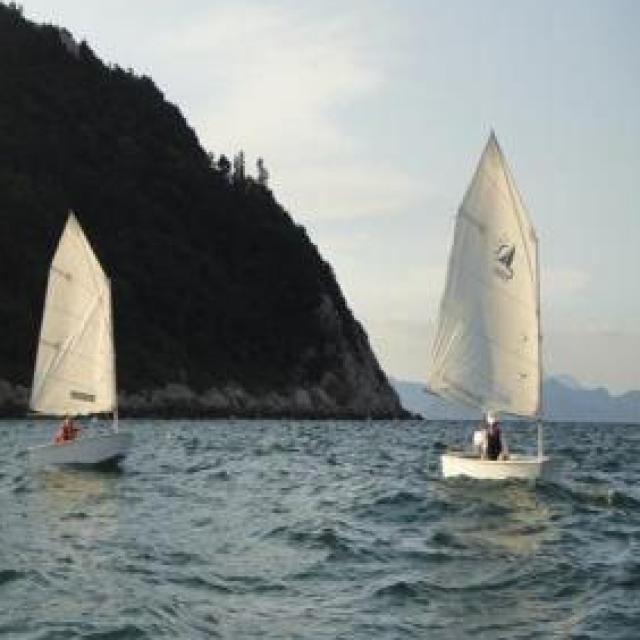sailboat: (419, 121, 557, 485), (17, 208, 131, 470)
